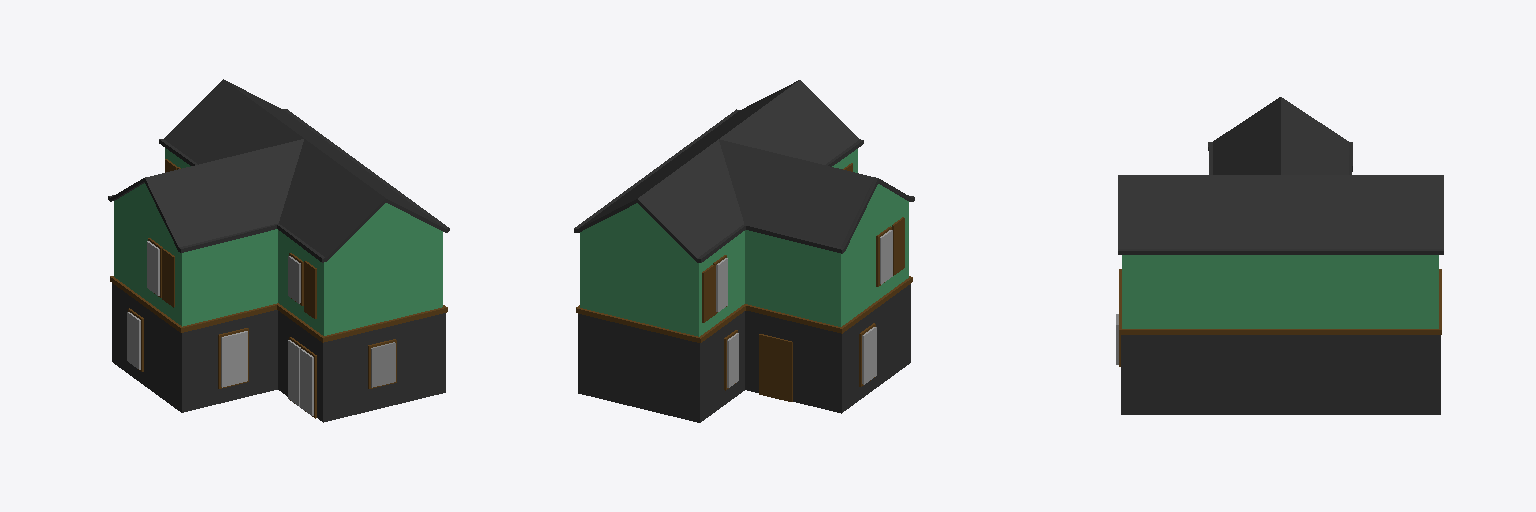
File: detached_house_02c.obj
3 views of the same model, side by side, from view 1: azimuth 30°, elevation 25°; view 2: azimuth 150°, elevation 25°; view 3: azimuth 270°, elevation 25° (orthographic).
Parts seen in each view (by area): view 1: Box45; view 2: Box45; view 3: Box45.
Part boxes in pixels (bbox=[...]): Box45: bbox=[108, 79, 449, 422]; Box45: bbox=[574, 80, 914, 422]; Box45: bbox=[1116, 97, 1443, 414].
Size of the model in its own units: 11.69 by 10.45 by 14.72.